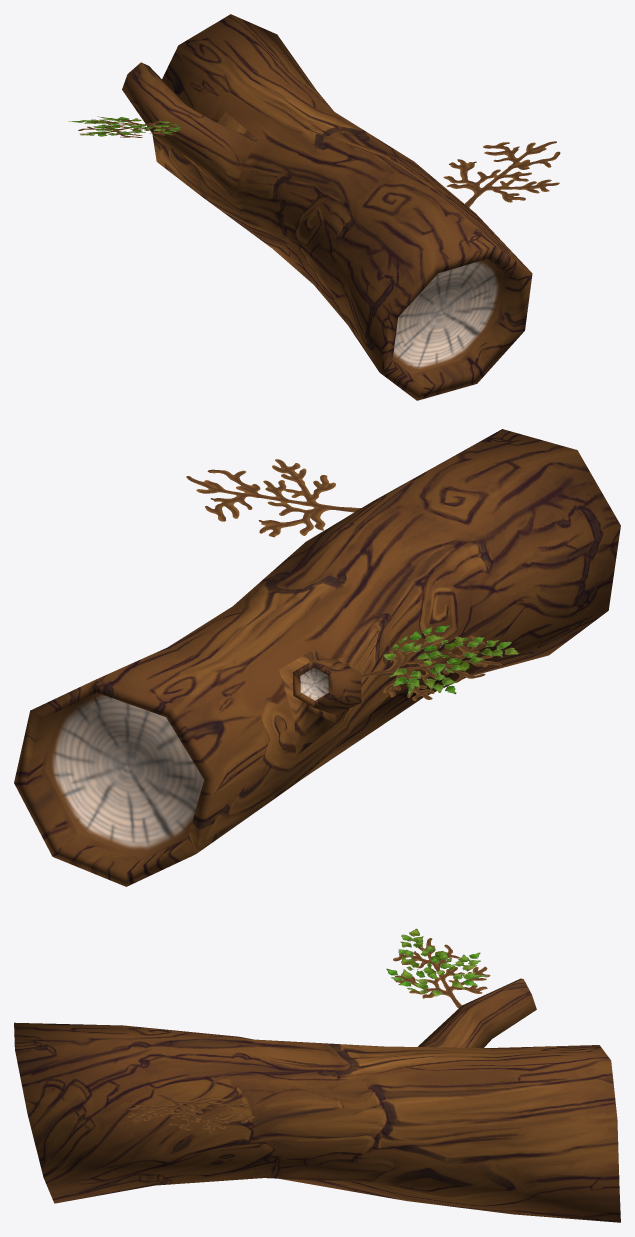
File: falltree.fbx
3 renders of one model, top to bottom at view 1: azimuth 30°, elevation 25°; view 2: azimuth 150°, elevation 25°; view 3: azimuth 270°, elevation 25°, orthographic. The views are drawn at different scales.
Parts seen in each view (by area): view 1: falltree; view 2: falltree; view 3: falltree.
Boxes of the visible parts, left/top/right/bottom form: falltree: left=68, top=14, right=560, bottom=400; falltree: left=14, top=429, right=620, bottom=886; falltree: left=14, top=928, right=620, bottom=1222.
Size of the model in its own units: 626 by 242 by 737.
